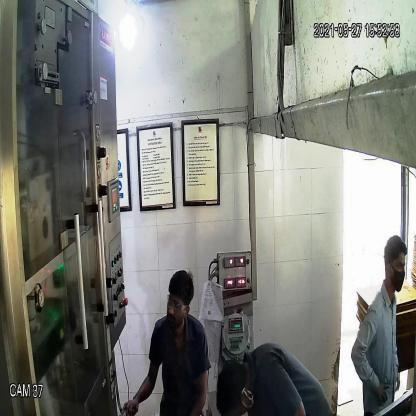goggles: (166, 295, 188, 313)
no_goggles: (388, 260, 406, 272)
